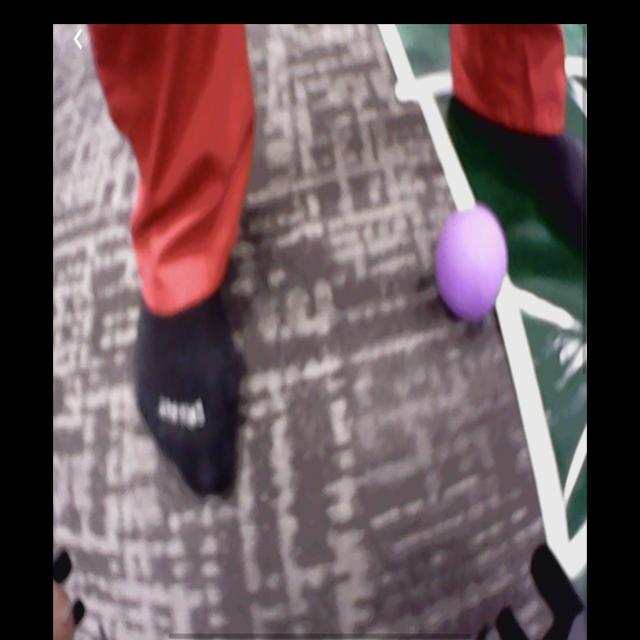ball: (438, 208, 507, 323)
